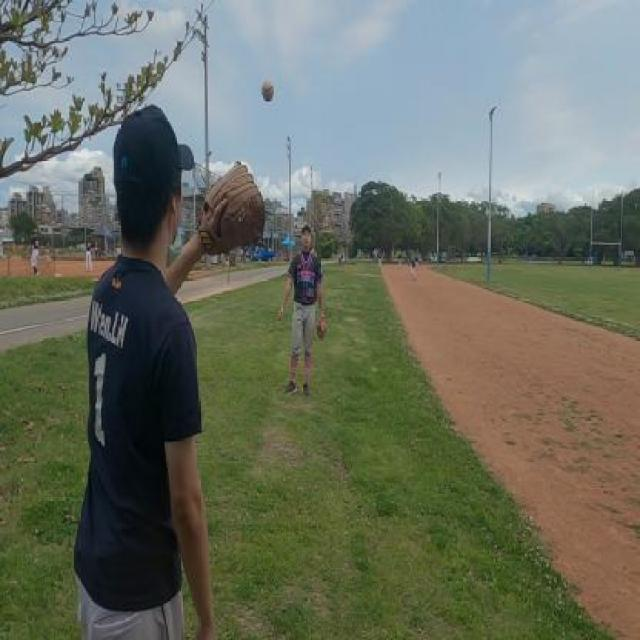baseball: (262, 79, 276, 103)
